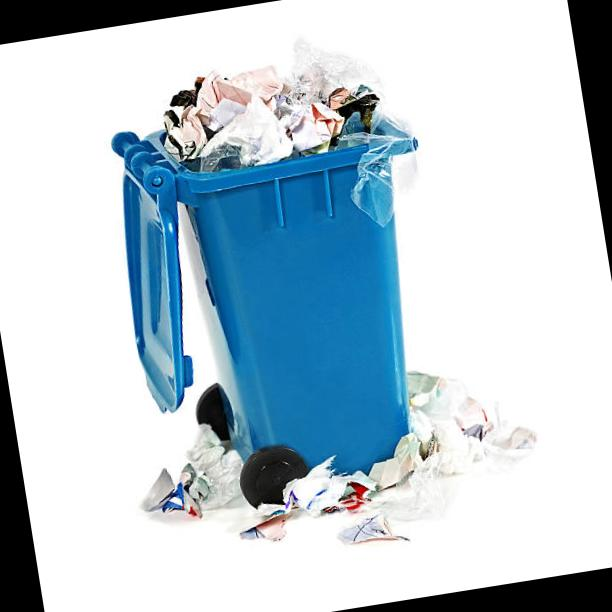trash: (140, 32, 422, 200), (222, 422, 434, 568), (404, 333, 556, 486), (136, 416, 258, 528)
trash_can_overflow: (54, 0, 612, 592)
